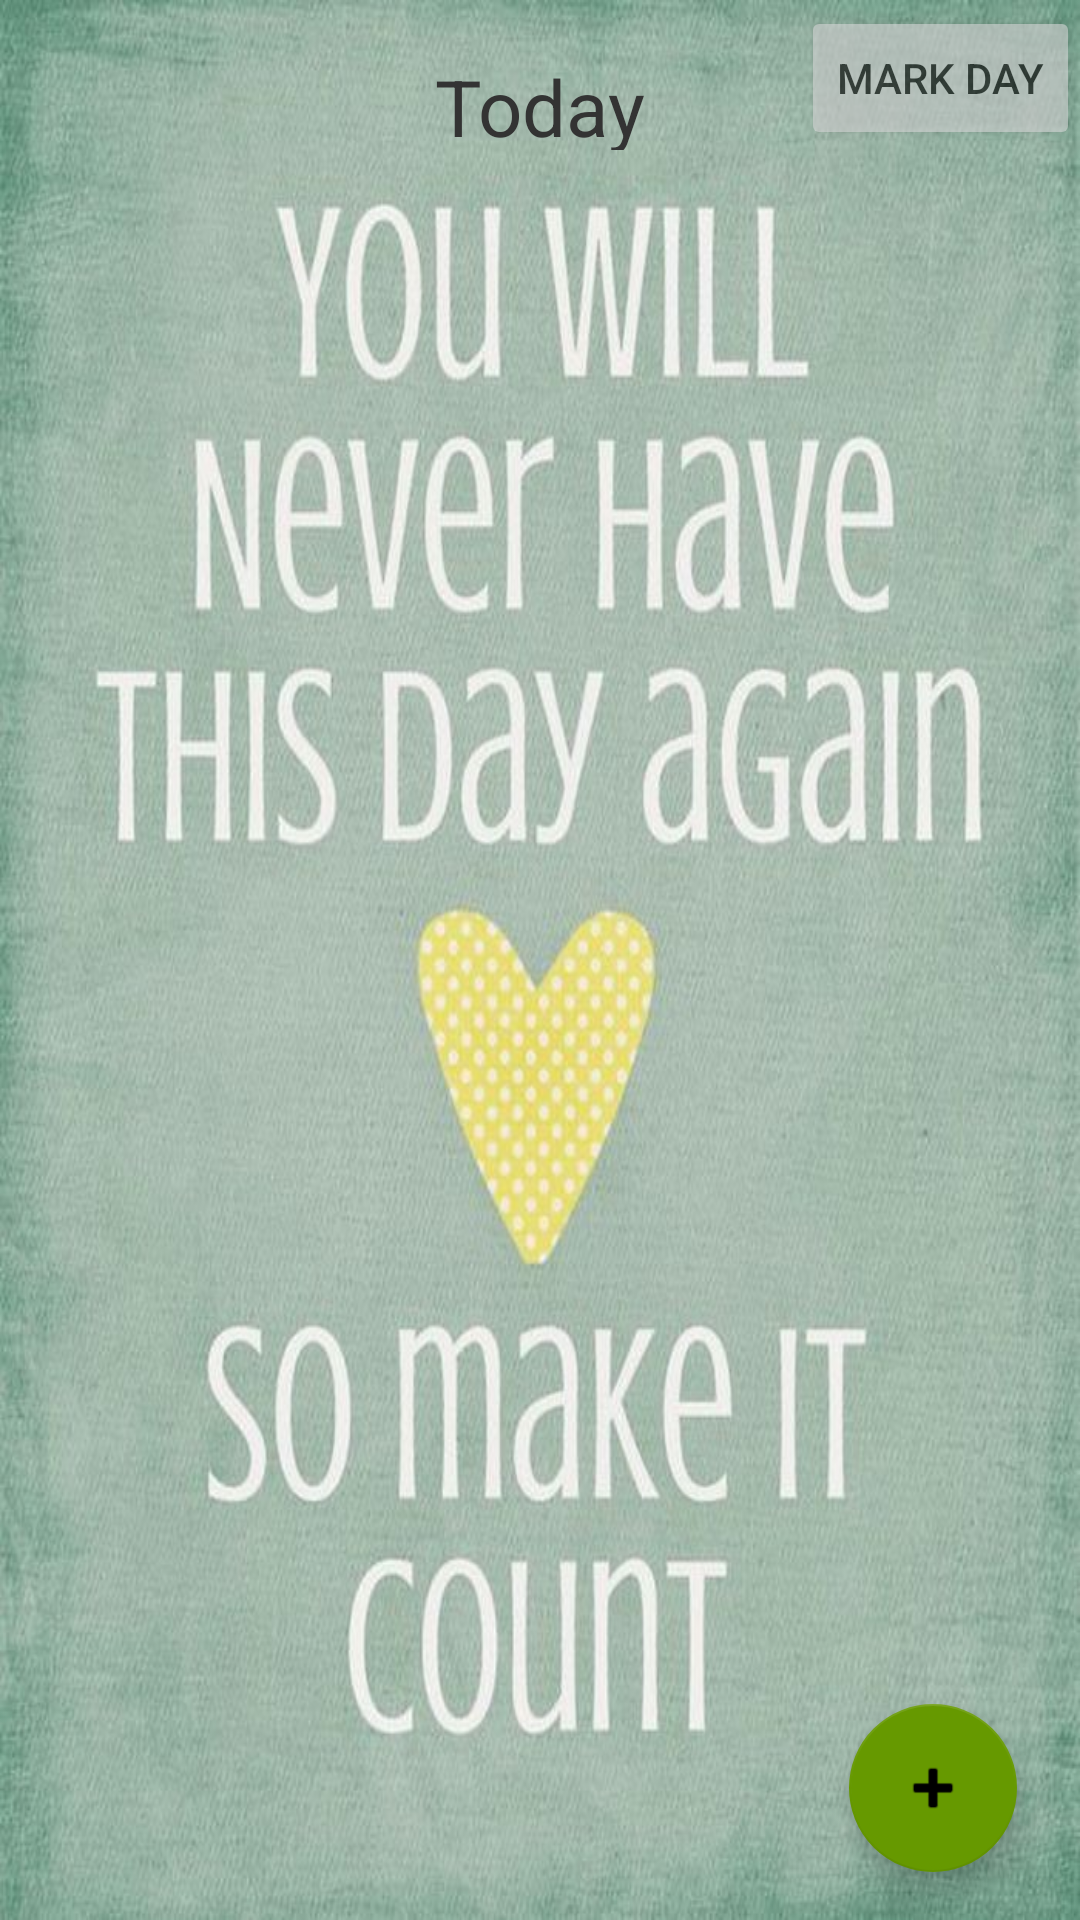

Where icons sit on this 1080*1920 app screen, as (x1, y1, x2, y2):
add: (849, 1704, 1017, 1872)
